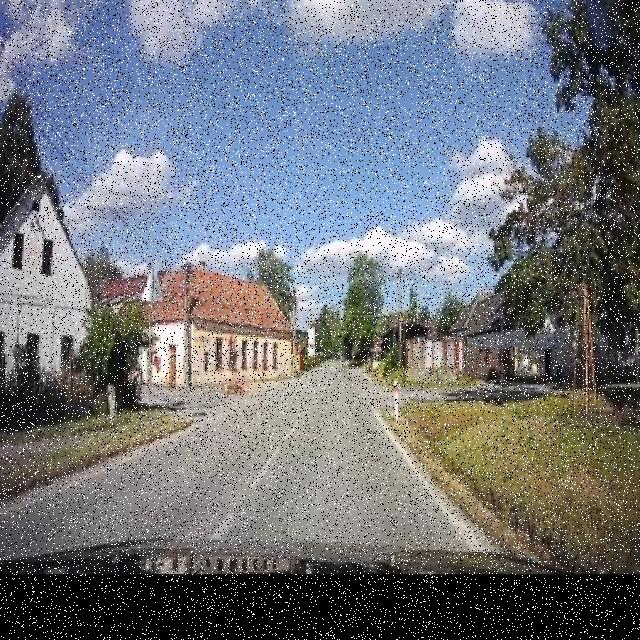clear-road: (0, 362, 470, 560)
